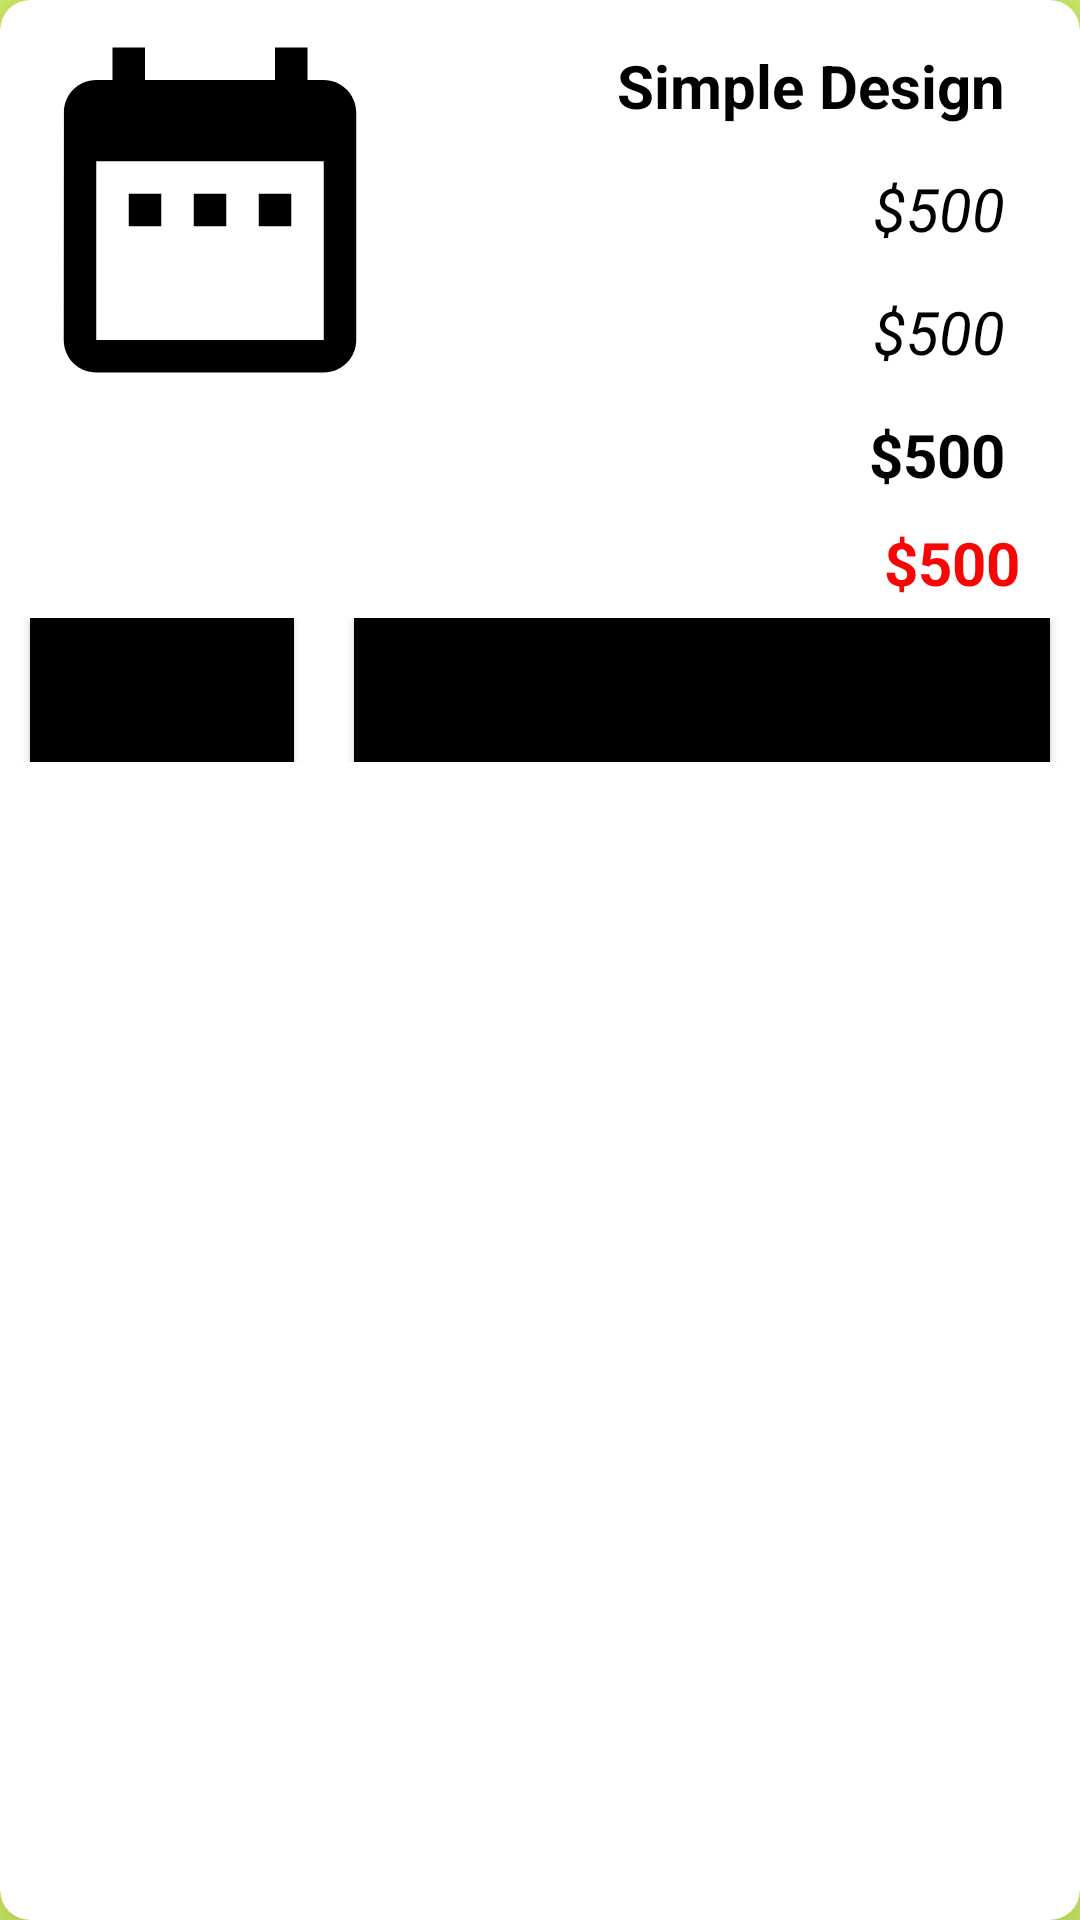

Screen size 1080 x 1920. Icon name, then its center in pixels as point (x, y):
appointment: point (210, 210)
